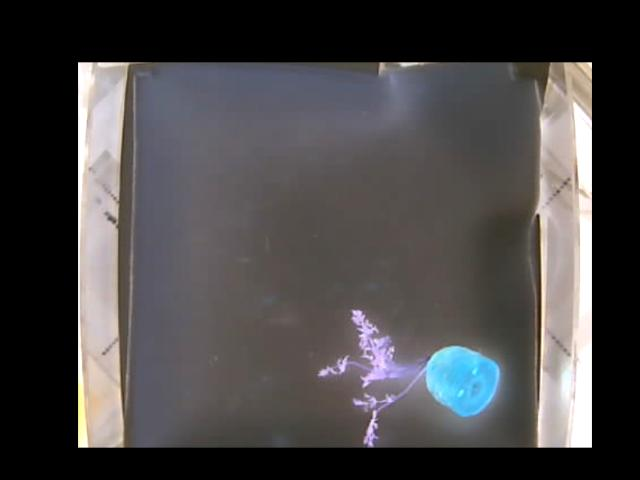Carrot: (316, 308, 500, 446)
